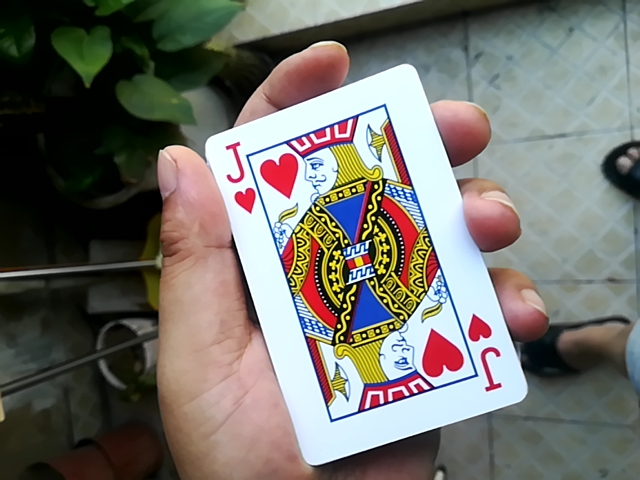hx j: (189, 61, 506, 467)
